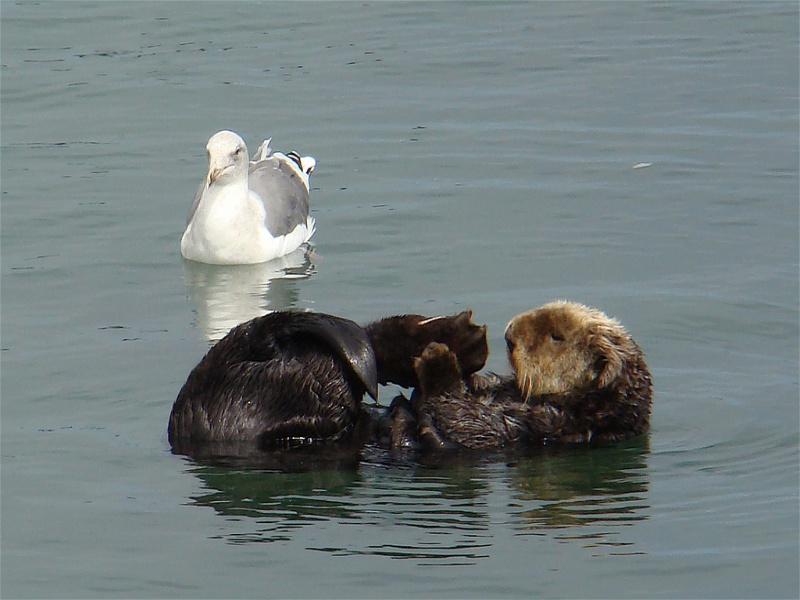minkish: (498, 301, 623, 398)
